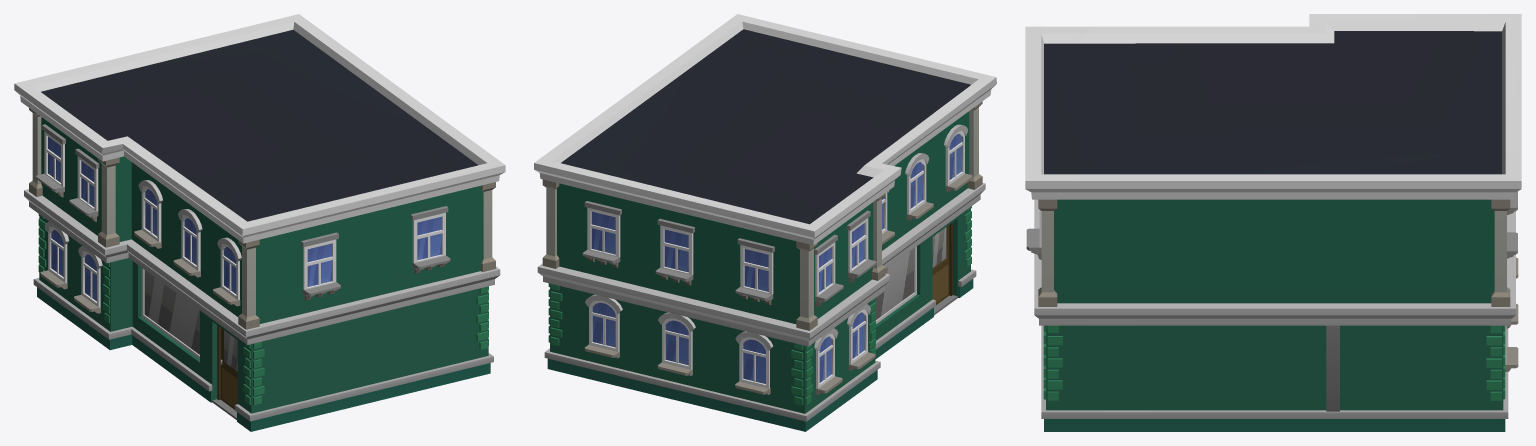
The model's file is Building_1_2_E.fbx.
3 views of the same model, side by side, from view 1: azimuth 30°, elevation 25°; view 2: azimuth 150°, elevation 25°; view 3: azimuth 270°, elevation 25° (orthographic). The views are drawn at different scales.
Visible parts, largest first — view 1: Building_1_2_E; view 2: Building_1_2_E; view 3: Building_1_2_E.
Boxes of the visible parts, left/top/right/bottom form: Building_1_2_E: left=14, top=14, right=505, bottom=431; Building_1_2_E: left=534, top=14, right=996, bottom=431; Building_1_2_E: left=1025, top=14, right=1521, bottom=431.
Bounding box in the file's own units: 841 × 600 × 1057.
